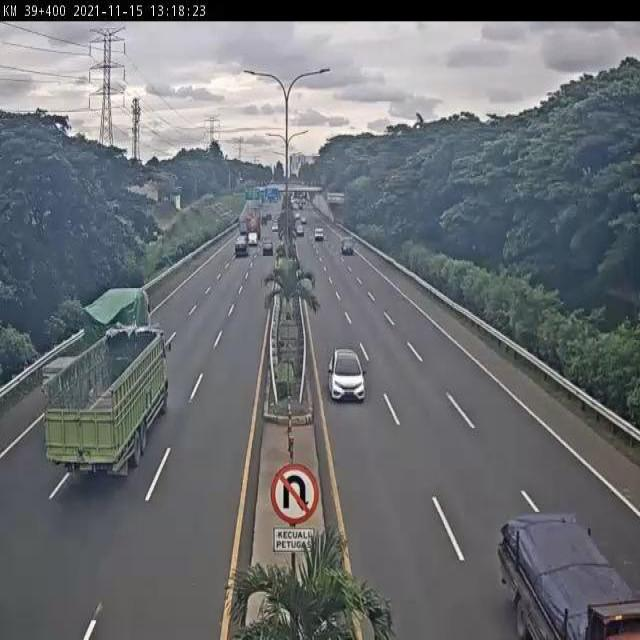ARABA: (328, 348, 369, 405)
KAMYONET: (39, 285, 155, 399)
TIR: (42, 329, 170, 479)
